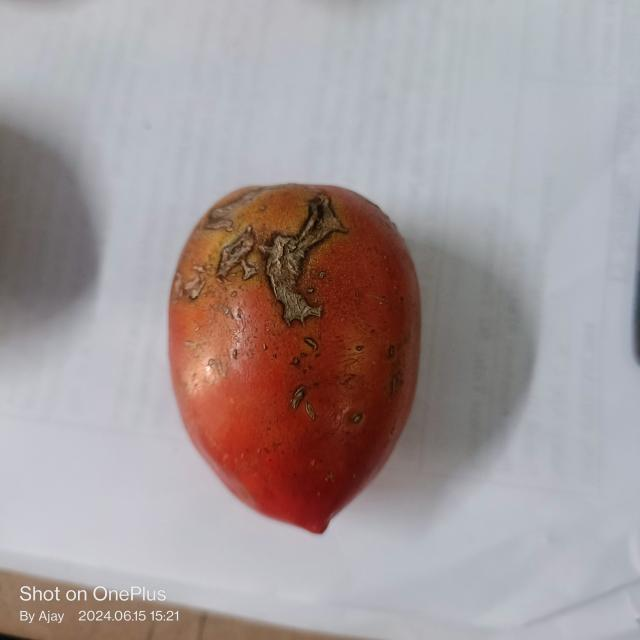tomato_cracking: (182, 189, 354, 335)
